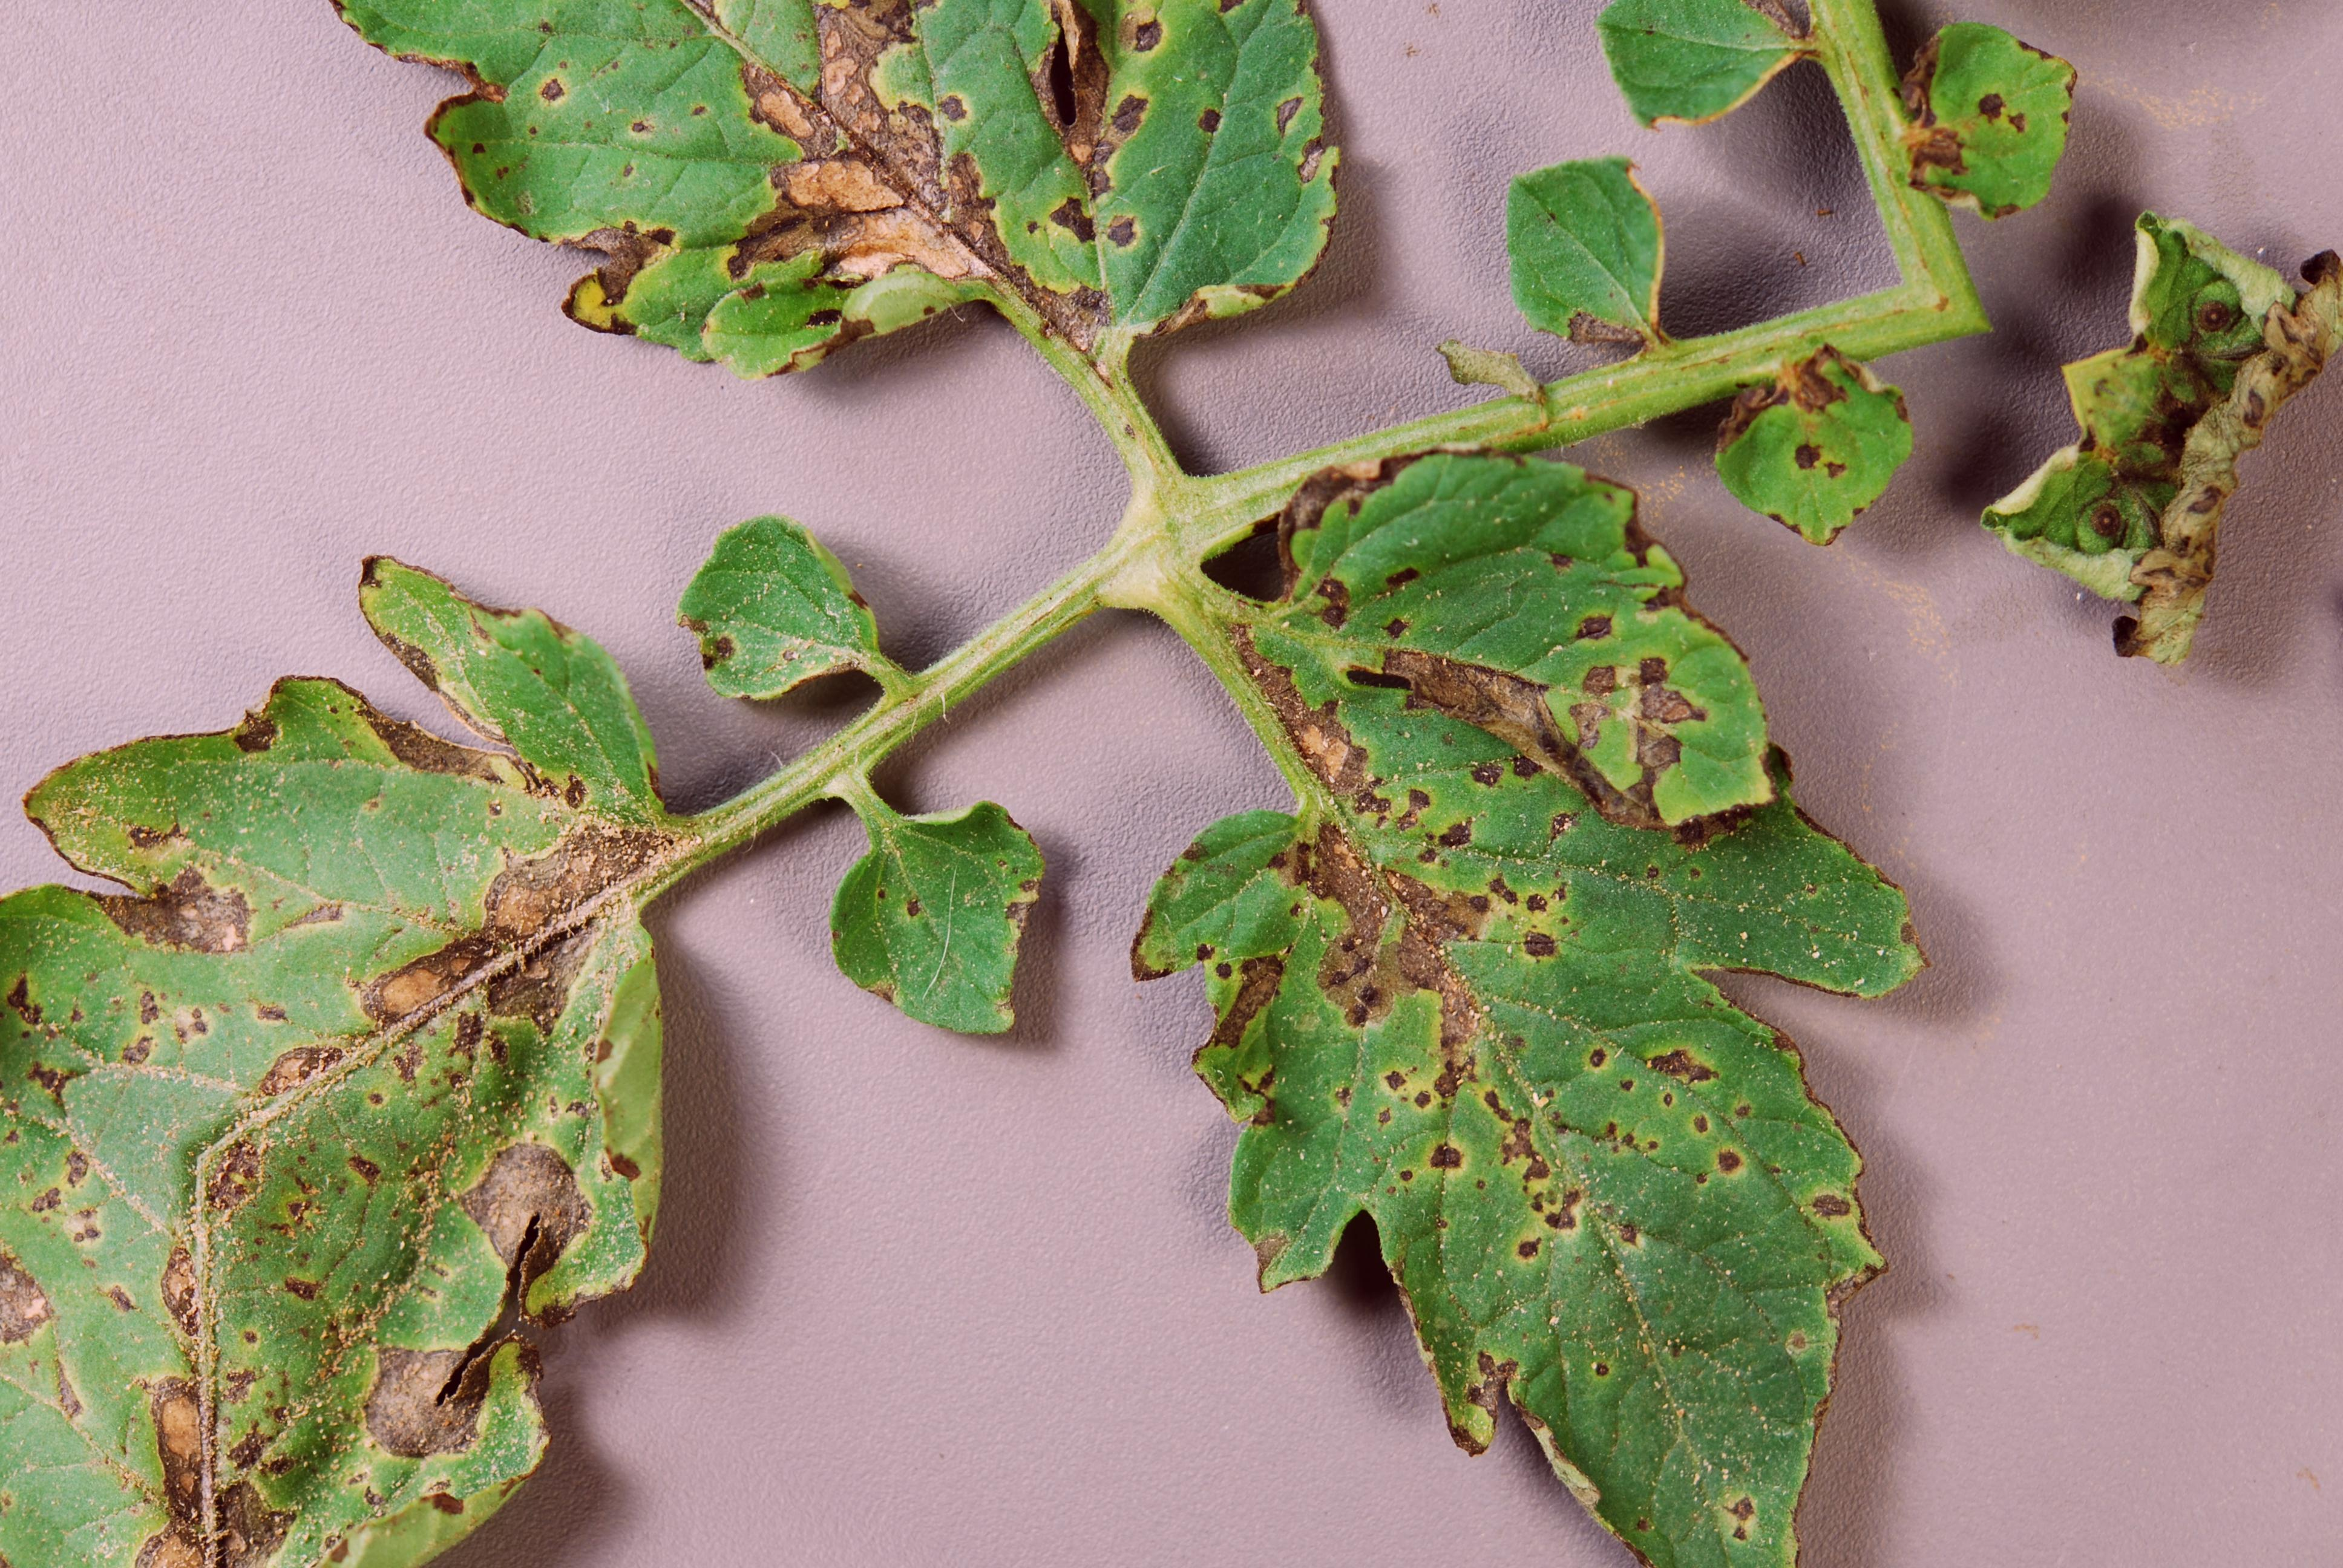Tomato Septoria leaf spot: (863, 507, 2204, 1568), (0, 280, 991, 1379), (180, 0, 1468, 664), (1194, 343, 1903, 942), (743, 741, 1164, 1136)
